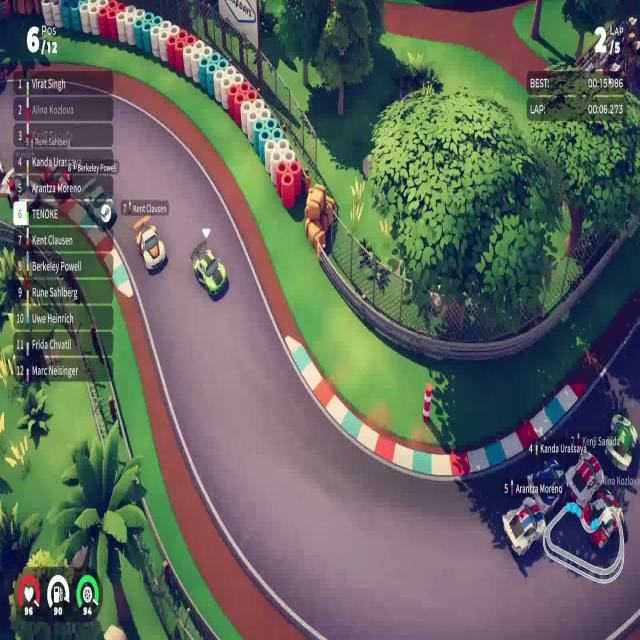car: (501, 494, 546, 558), (566, 450, 605, 510), (81, 175, 118, 225), (192, 246, 227, 298), (134, 220, 166, 272)
